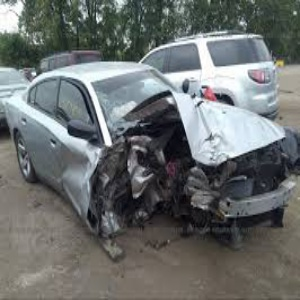bonnet: (156, 87, 268, 164)
bumper: (131, 172, 286, 244)
